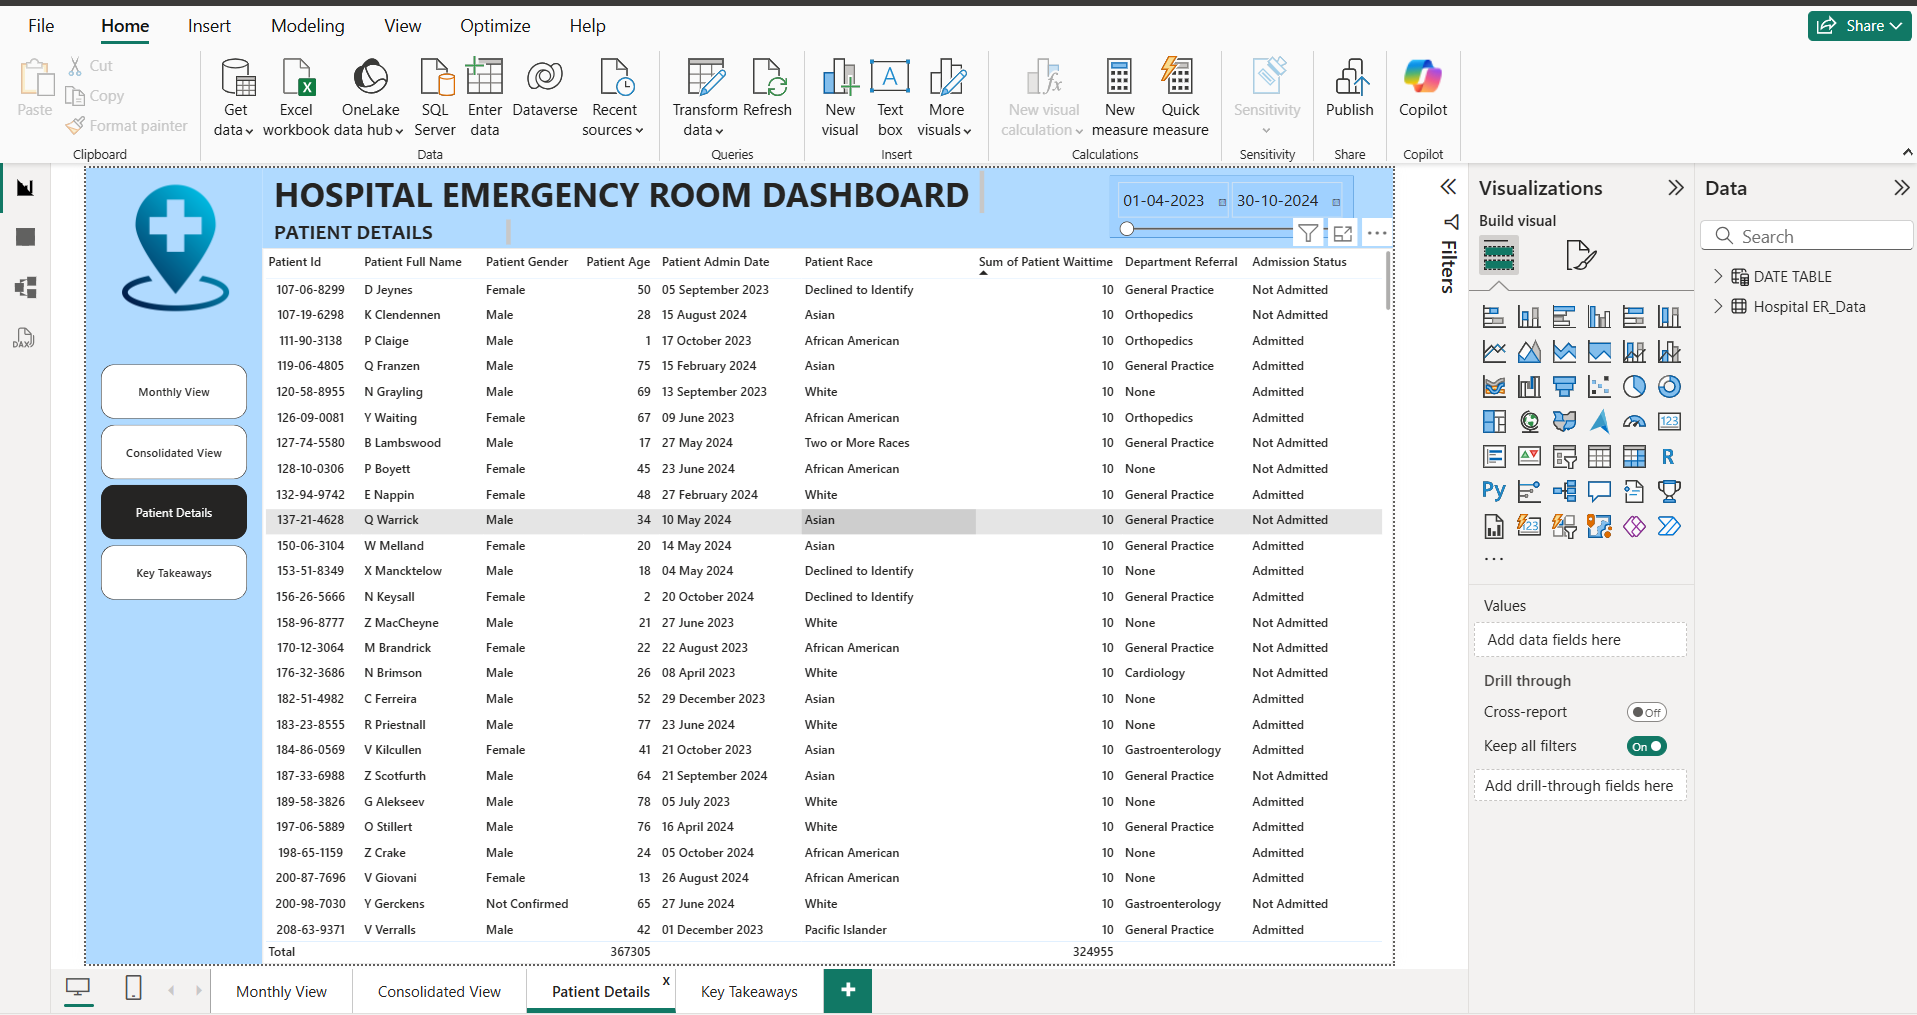

Layout of this report page (visuals, bound fields, positions):
{"tool":"powerbi","page":{"name":"Patient Details","canvas":[2300,1400],"ordinal":2},"visuals":[{"type":"shape","box":[0,0,310,1400.4],"z":0},{"type":"shape","box":[310,0,1989.6,140.7],"z":1000},{"type":"textbox","box":[325.4,0,1259.7,85.7],"z":2000},{"type":"textbox","box":[325.4,85.7,426.5,55],"z":3000},{"type":"slicer","fields":{"Values":["DATE TABLE.Date"]},"box":[1800.6,13.2,428.7,109.9],"z":4000},{"type":"image","box":[39.6,24.2,235.2,233],"z":5000},{"type":"tableEx","fields":{"Values":["Hospital ER_Data.Patient Id","Hospital ER_Data.Patient Full Name","Hospital ER_Data.Patient Gender","Sum(Hospital ER_Data.Patient Age)","Hospital ER_Data.Patient Admin Date","Hospital ER_Data.Patient Race","Sum(Hospital ER_Data.Patient Waittime)","Hospital ER_Data.Department Referral","Hospital ER_Data.Admission Status"]},"box":[310,141,1990,1259],"z":6000},{"type":"pageNavigator","box":[26.4,345.2,257.2,415.5],"z":6001}]}

Visuals, with their boxes on the page's 2300x1400 design canvas (x1, y1, x2, y2). These are canvas units, not pixel positions in the 1917x1015 screenshot, which may show the page scaled, cropped or inside an application window:
shape: box(0, 0, 310, 1400)
shape: box(310, 0, 2300, 141)
textbox: box(325, 0, 1585, 86)
textbox: box(325, 86, 752, 141)
slicer - DATE TABLE.Date: box(1801, 13, 2229, 123)
image: box(40, 24, 275, 257)
tableEx - Hospital ER_Data.Patient Id x Hospital ER_Data.Patient Full Name: box(310, 141, 2300, 1400)
pageNavigator: box(26, 345, 284, 761)
